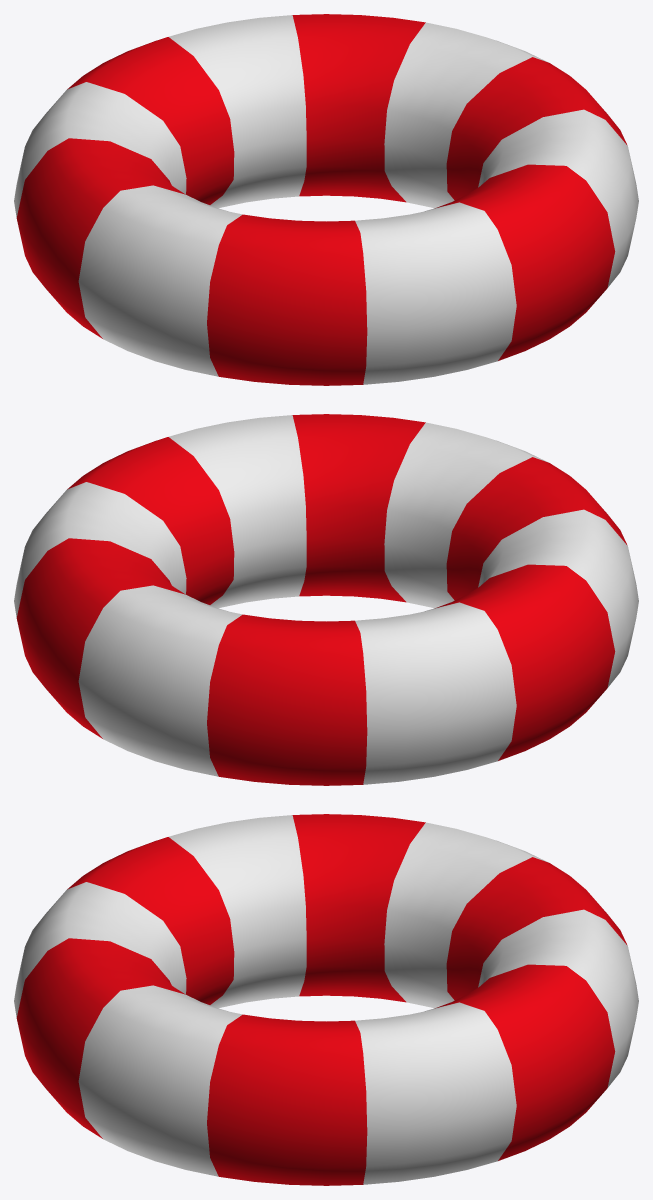
The model's file is boia.fbx.
3 renders of one model, top to bottom at view 1: azimuth 30°, elevation 25°; view 2: azimuth 150°, elevation 25°; view 3: azimuth 270°, elevation 25°, orthographic.
Visible parts, largest first — view 1: Torus; view 2: Torus; view 3: Torus.
Boxes of the visible parts, x1,y1,x2,y2 form: Torus: (14,14,638,385); Torus: (14,414,638,785); Torus: (14,814,638,1185).
Size of the model in its own units: 250 by 70.89 by 250.
